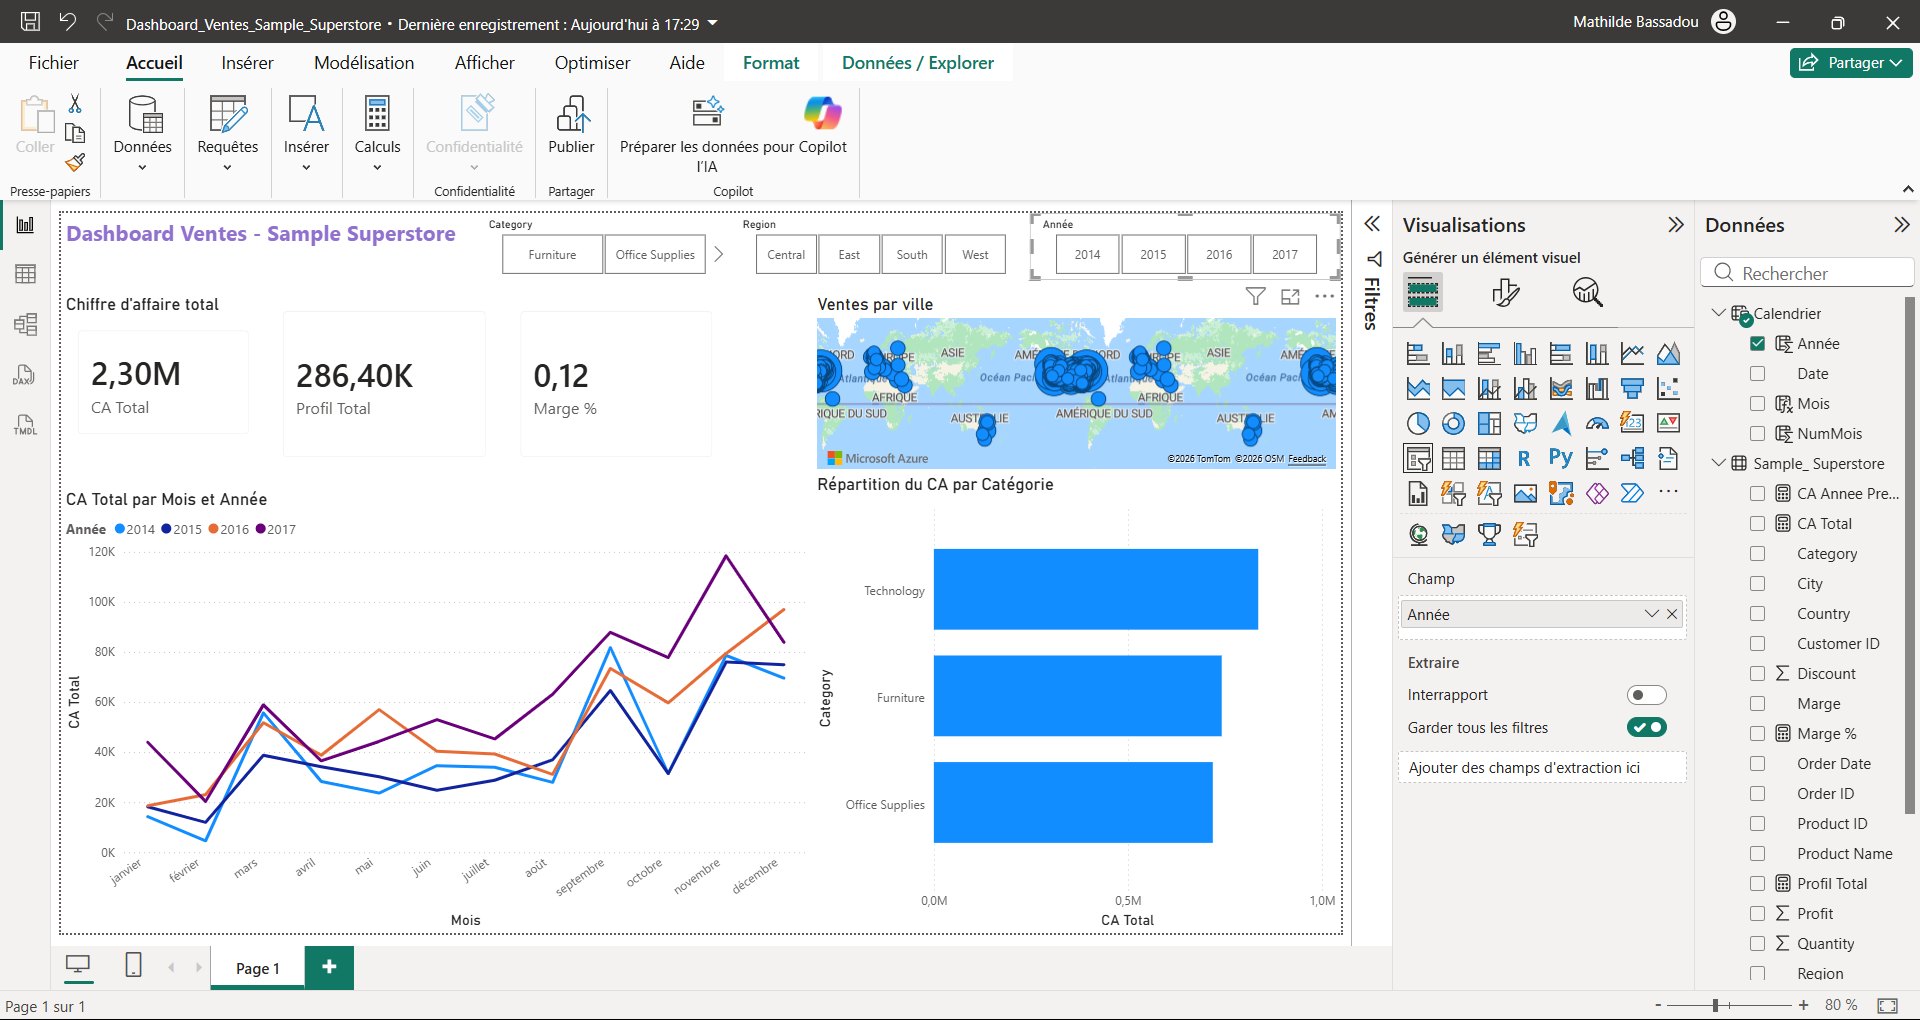

The dashboard page shown, as its layout file describes it:
{"tool":"powerbi","page":{"name":"Page 1","canvas":[1280,720],"ordinal":0},"visuals":[{"type":"cardVisual","title":"Chiffre d''affaire total","fields":{"Data":["Sample_ Superstore.CA Total"]},"box":[0,81.2,205,157.5],"z":1},{"type":"lineChart","fields":{"Y":["Sample_ Superstore.CA Total"],"Series":["Calendrier.Année"],"Category":["Calendrier.Mois"]},"box":[0,276.2,751.2,443.8],"z":2},{"type":"clusteredBarChart","title":"Répartition du CA par Catégorie","fields":{"Y":["Sample_ Superstore.CA Total"],"Category":["Sample_ Superstore.Category"]},"box":[751.2,261.2,528.8,458.8],"z":3},{"type":"azureMap","title":"Ventes par ville","fields":{"Size":["Sample_ Superstore.CA Total"],"Category":["Sample_ Superstore.City"]},"box":[751.2,81.2,528.8,180],"z":4},{"type":"cardVisual","fields":{"Data":["Sample_ Superstore.Profil Total"]},"box":[205,81.2,237.5,180],"z":5},{"type":"cardVisual","fields":{"Data":["Sample_ Superstore.Marge %"]},"box":[442.5,81.2,226.2,180],"z":6},{"type":"textbox","box":[0,0,415,53.8],"z":7},{"type":"slicer","fields":{"Values":["Calendrier.Année"]},"box":[968.8,0,311.2,67.5],"z":8},{"type":"slicer","fields":{"Values":["Sample_ Superstore.Region"]},"box":[668.8,0,300,67.5],"z":9},{"type":"slicer","fields":{"Values":["Sample_ Superstore.Category"]},"box":[415,0,253.8,67.5],"z":10}]}

Visuals, with their boxes on the page's 1280x720 design canvas (x1, y1, x2, y2). These are canvas units, not pixel positions in the 1920x1020 screenshot, which may show the page scaled, cropped or inside an application window:
"Chiffre d''affaire total" cardVisual: (0,81,205,239)
lineChart - Sample_ Superstore.CA Total x Calendrier.Année: (0,276,751,720)
"Répartition du CA par Catégorie" clusteredBarChart: (751,261,1280,720)
"Ventes par ville" azureMap: (751,81,1280,261)
cardVisual - Sample_ Superstore.Profil Total: (205,81,442,261)
cardVisual - Sample_ Superstore.Marge %: (442,81,669,261)
textbox: (0,0,415,54)
slicer - Calendrier.Année: (969,0,1280,68)
slicer - Sample_ Superstore.Region: (669,0,969,68)
slicer - Sample_ Superstore.Category: (415,0,669,68)
